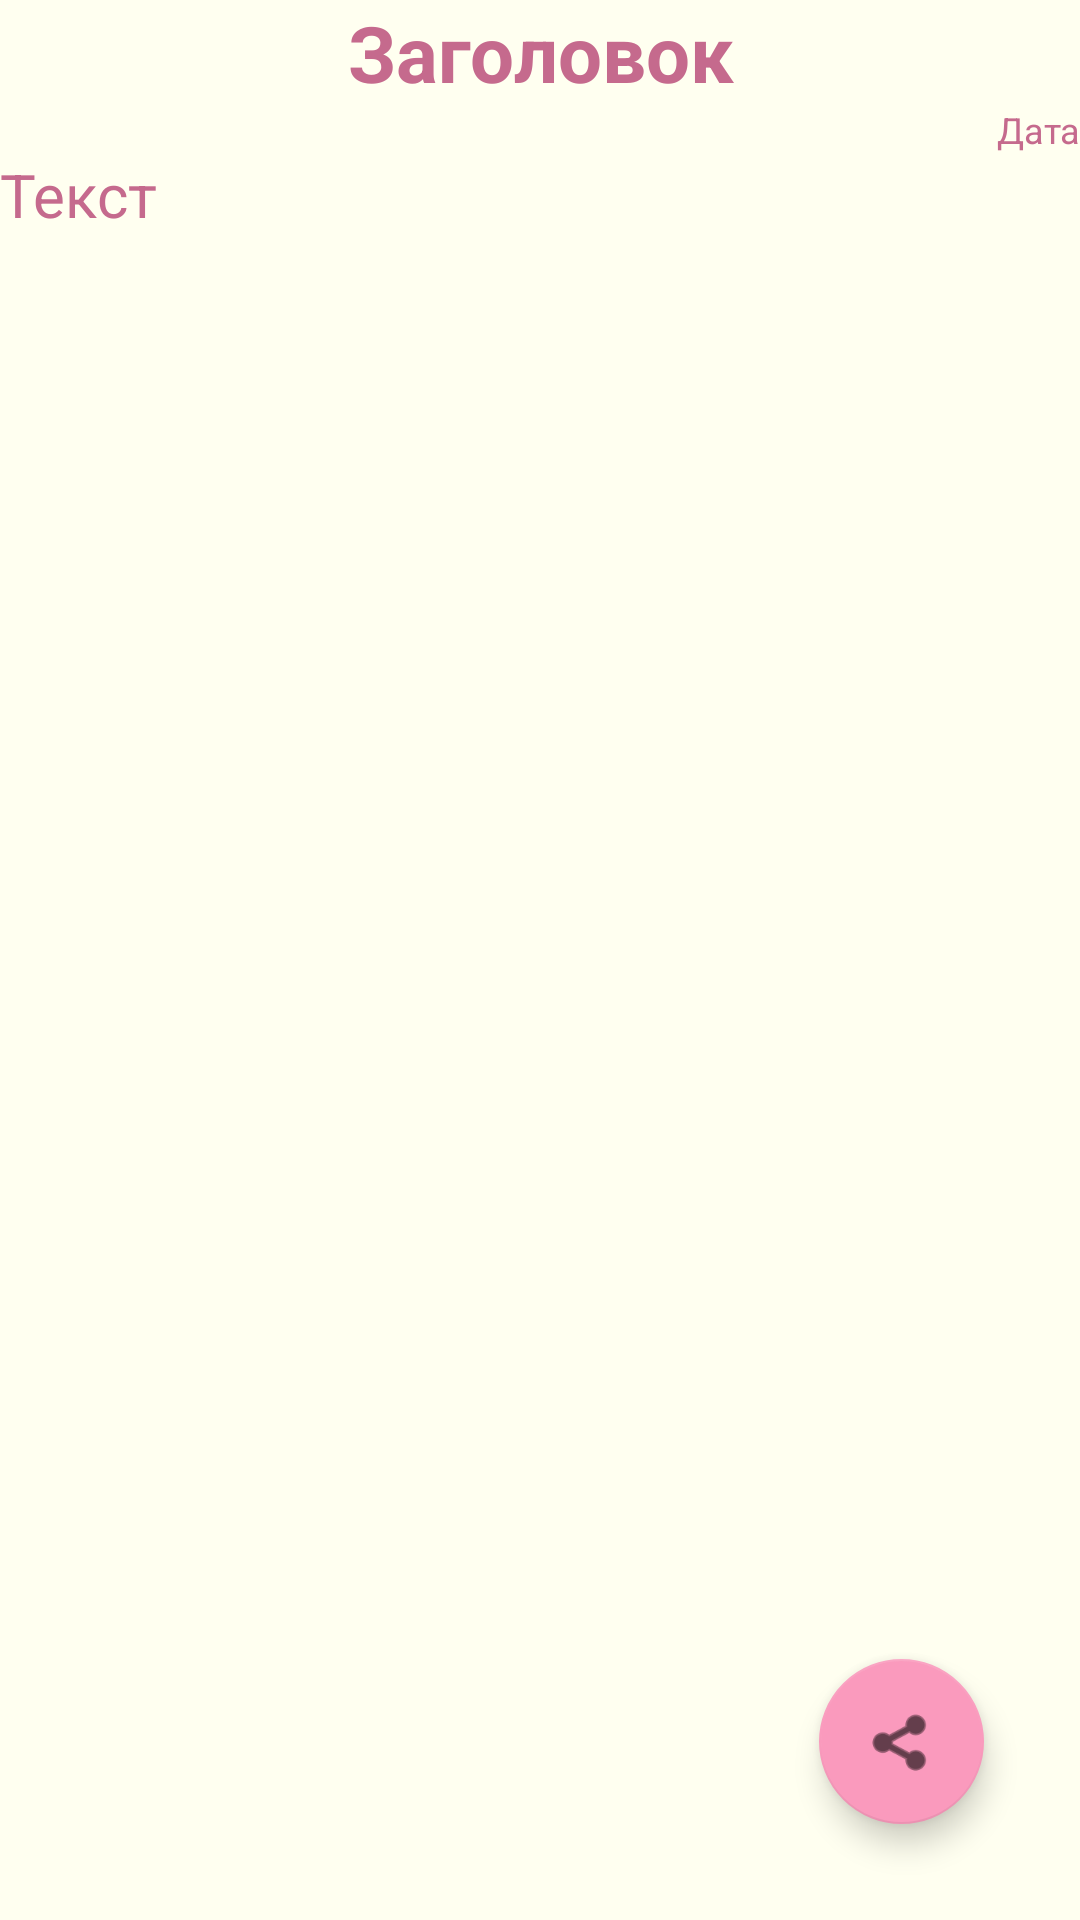

Icons on this 1080x1920 Android screen, each with its box as (x1, y1, x2, y2):
поделиться заметкой: (819, 1659, 984, 1824)
